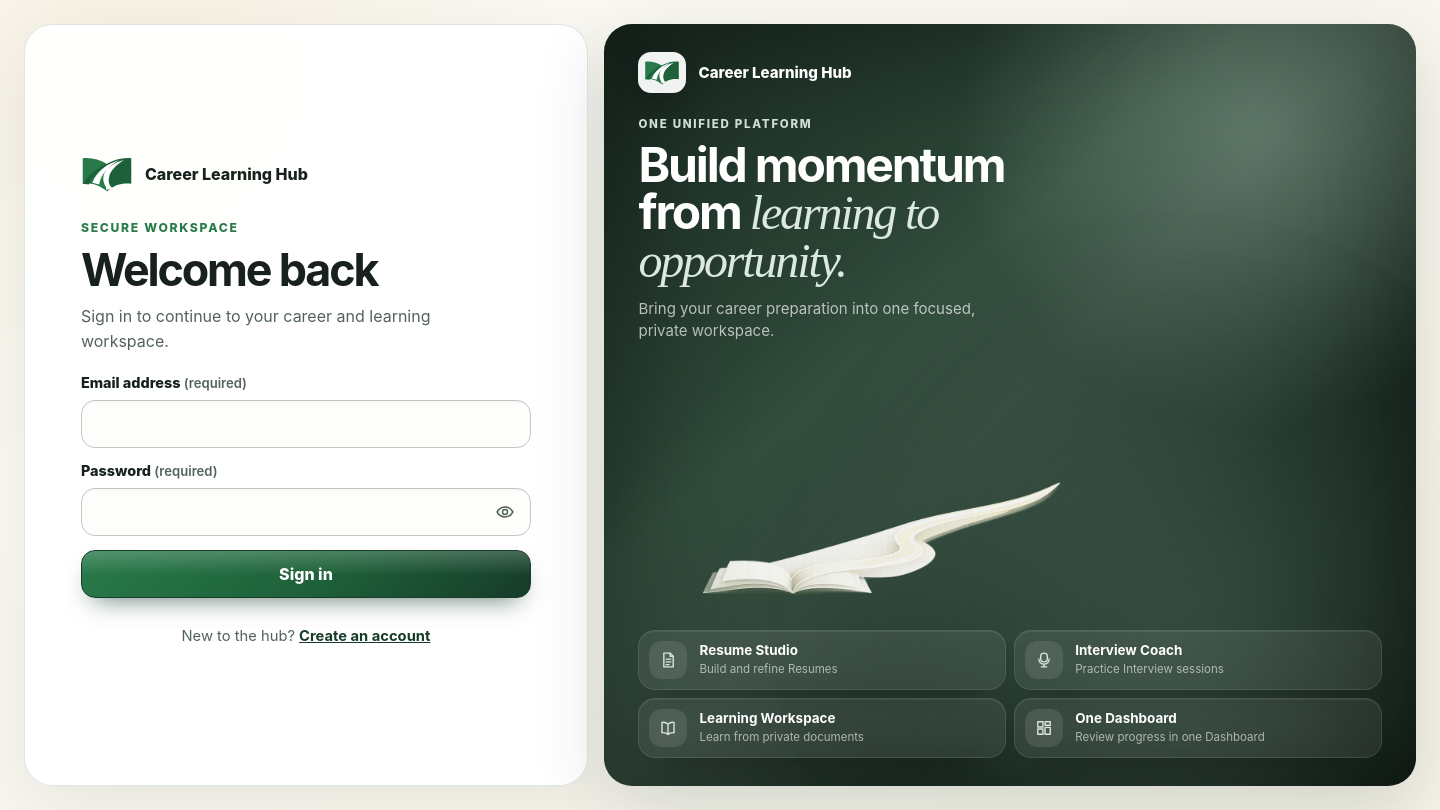
Test: Phase 19E authentication form contract › revalidates only existing Login field errors after submit
Expected: the heading "Welcome back" is shown, [81,243,377,297]
Expected: the text "Enter a valid email address." is not shown
Click the button "Sign in": (306, 574) [81,550,531,598]
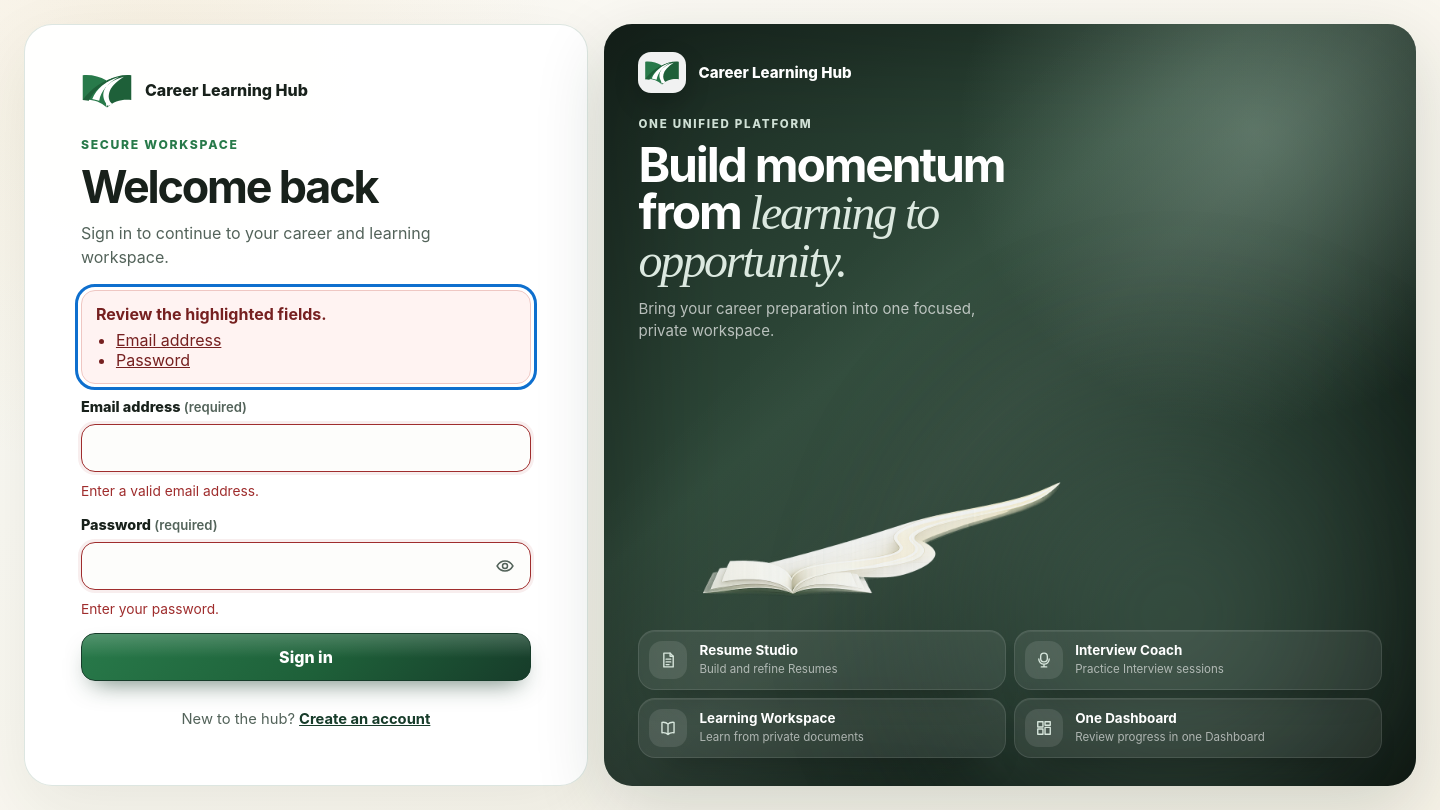
Now the text "Enter a valid email address." is shown, box [81,483,259,499]
Now the text "Enter your password." is shown, box [81,601,219,617]
In the field labelled "Email address": (306, 448) [81,424,531,472], type "phase19e@example.test"
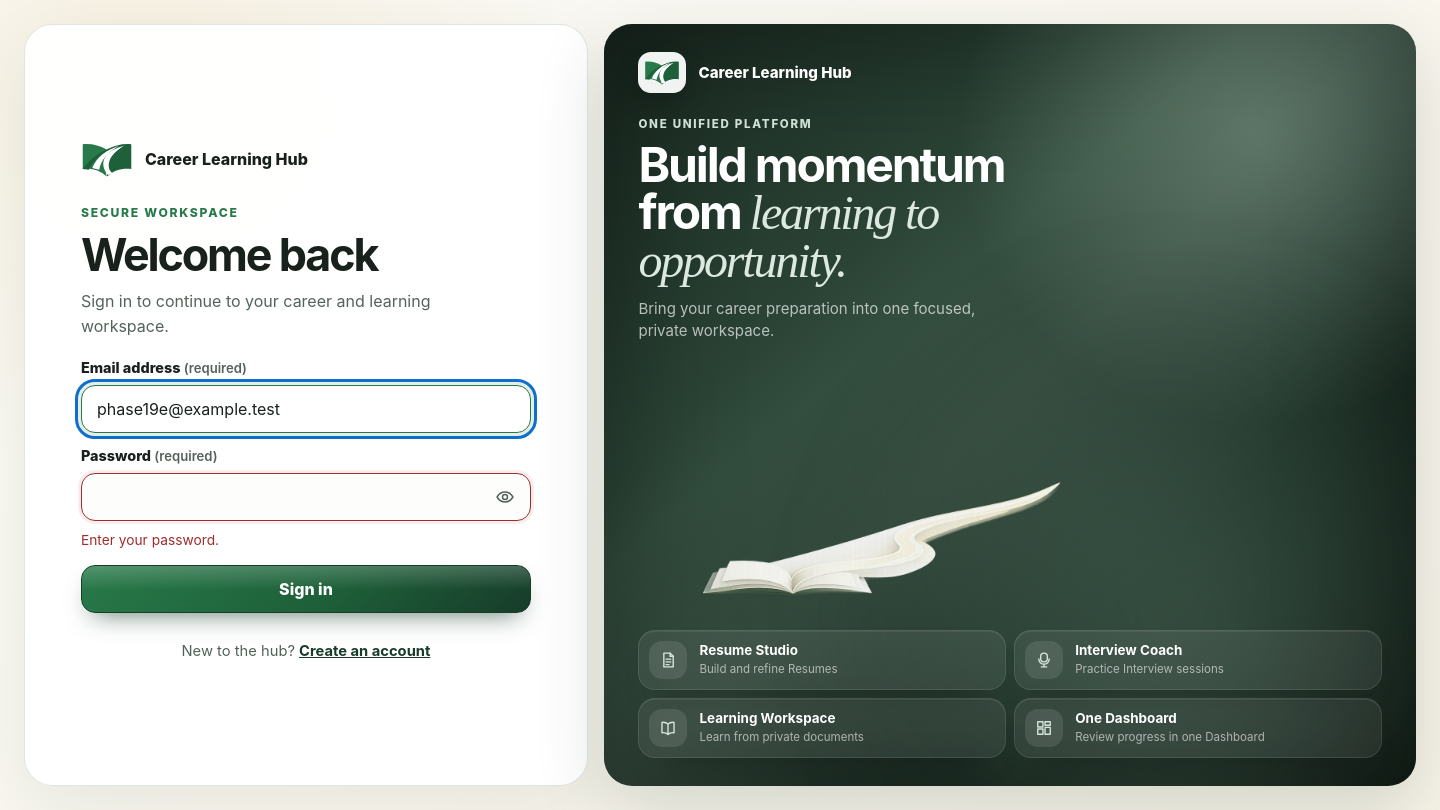
Now the text "Enter your password." is shown, box [81,532,219,548]
Now the text "Enter a valid email address." is gone
In the password field labelled "Password": (306, 497) [81,473,531,521], type "SyntheticPassword1"
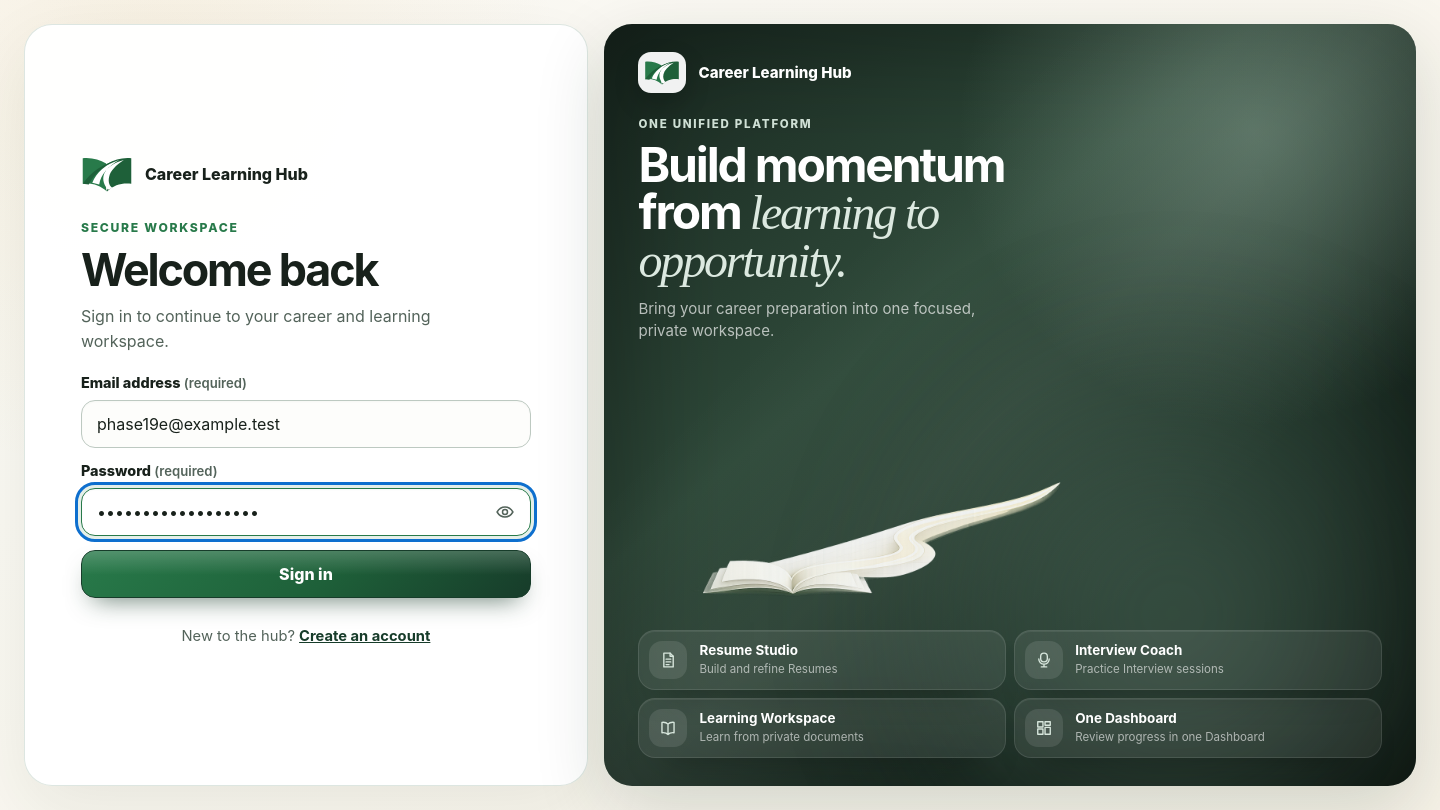
Now the text "Enter your password." is gone
